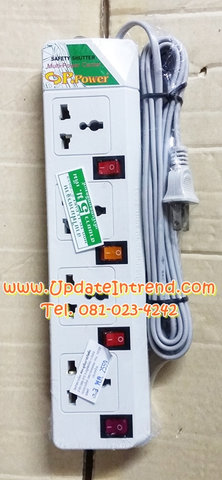Three_eye_plug: (38, 12, 199, 457)
